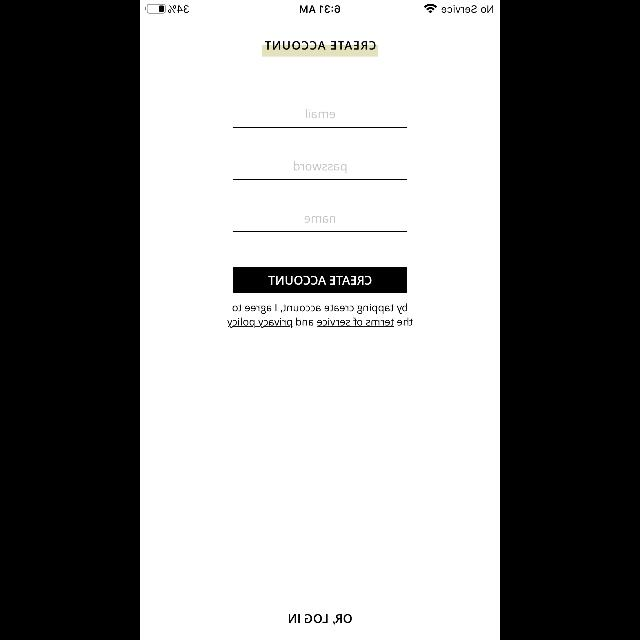input: (234, 162, 406, 180), (234, 110, 406, 128), (234, 215, 406, 232)
text: (228, 304, 412, 328), (265, 42, 375, 50), (294, 162, 346, 174), (289, 614, 327, 624), (304, 215, 336, 222), (306, 110, 334, 118), (332, 614, 352, 624)
textbutton: (234, 267, 406, 293)
uppertaskbar: (140, 0, 500, 14)
